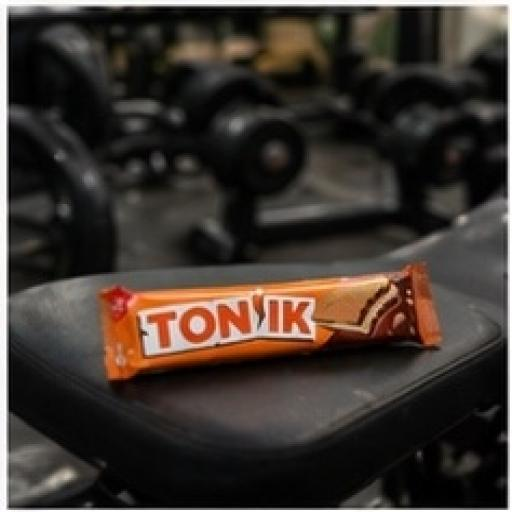tonik: (67, 187, 469, 442)
